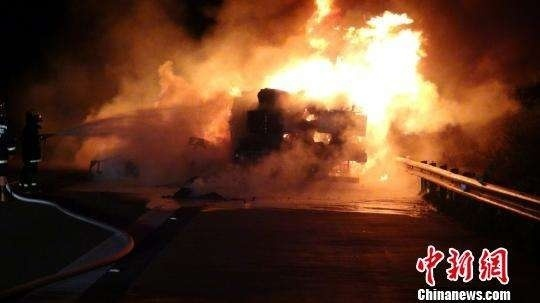fire: (251, 7, 436, 143)
